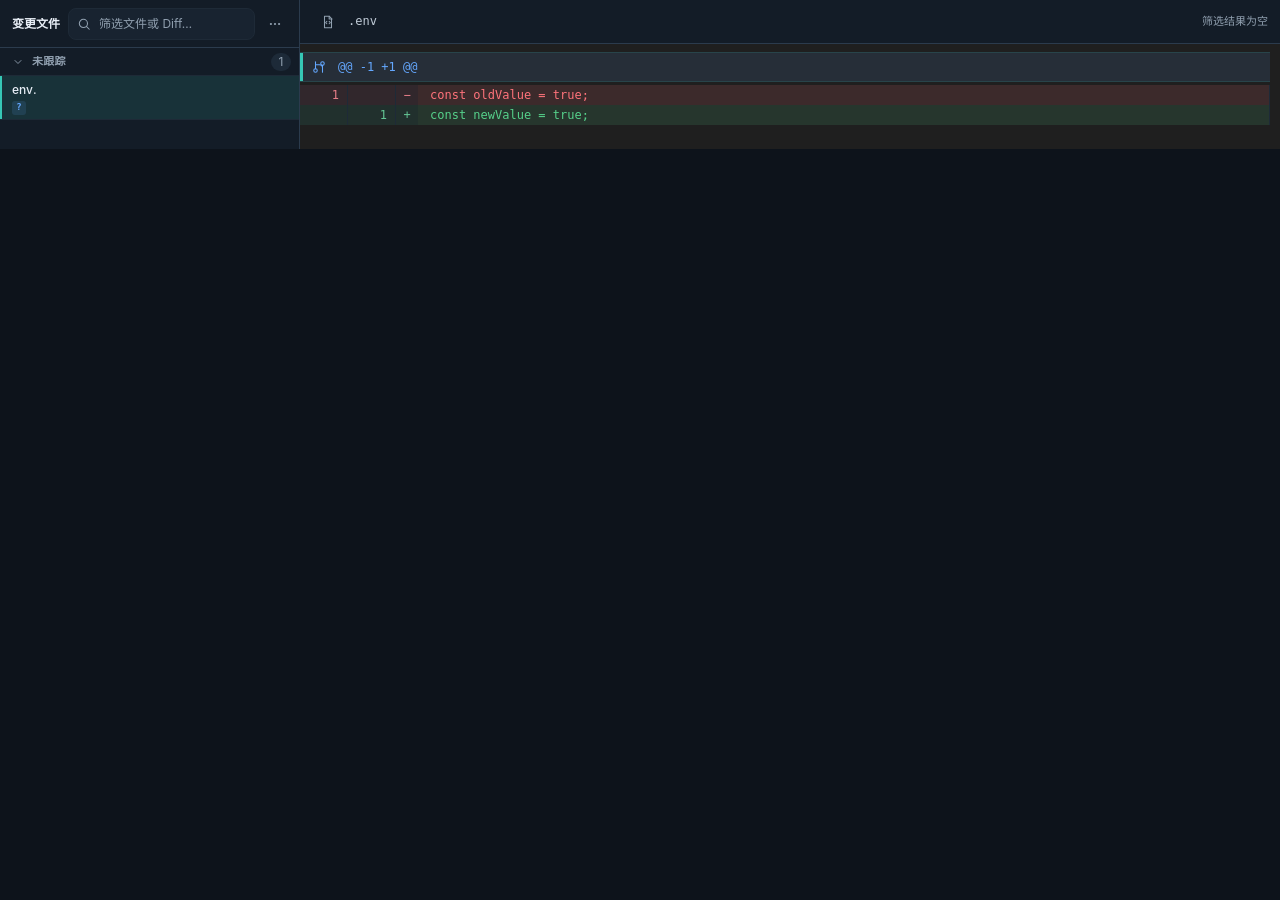
Test case: DiffWorkspace › disables invalid ignore scopes and fits the expanded menu inside the viewport
This screenshot has width=1280, height=900.
Step 1. Right-click the element with class "diff-workspace-file" → [150, 98], box [0,76,299,120]
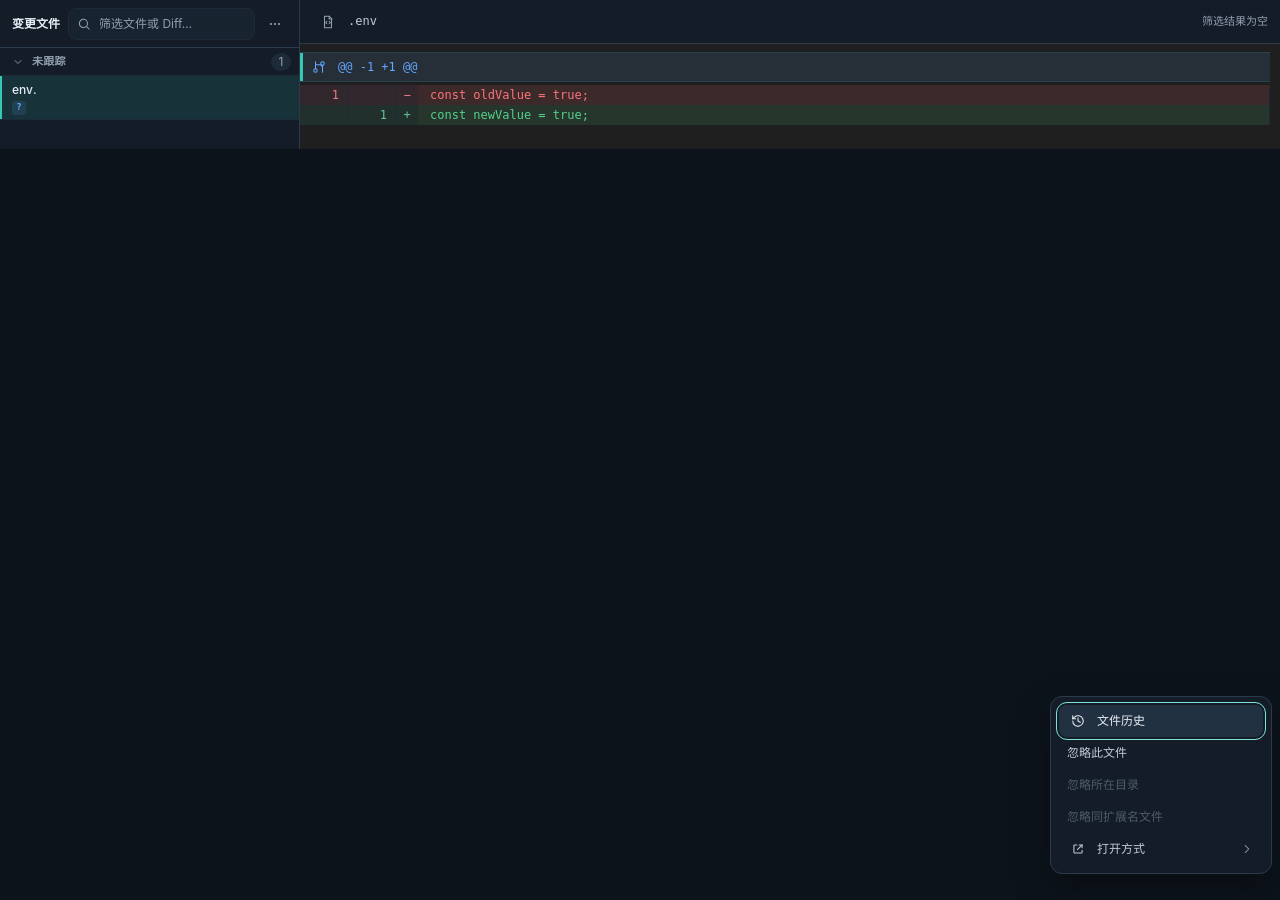
Result: the menu item "忽略所在目录" is disabled at [1059,769,1263,801]
Result: the menu item "忽略同扩展名文件" is disabled at [1059,801,1263,833]
Result: the menu item "忽略此文件" is enabled at [1059,737,1263,769]
